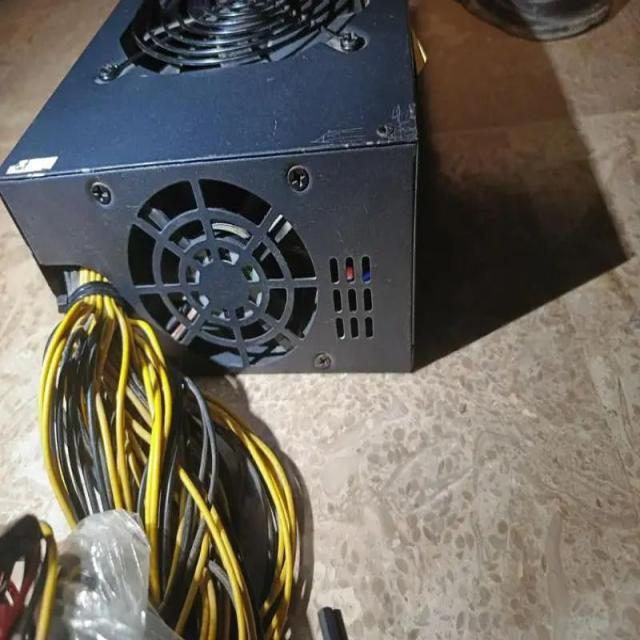electronic: (1, 0, 420, 375)
